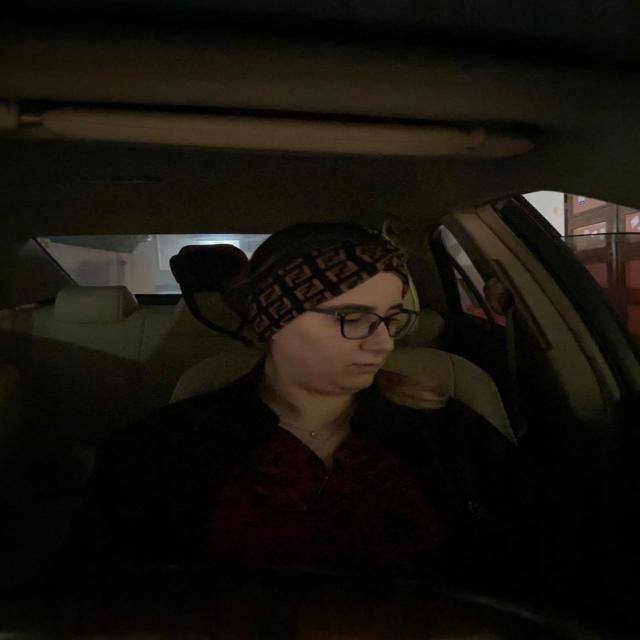LeftRight: (236, 227, 422, 394)
